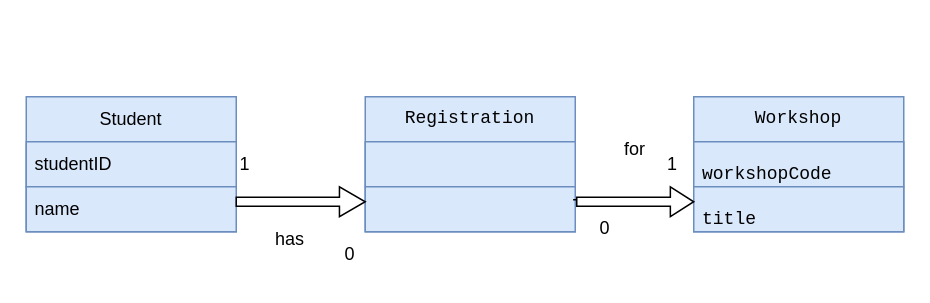
Some shapes in this 930 by 303 pixel diagram are drawn without their labels. Here are the shapes that lost their labels. From the top down, the centre of each, then its label:
At [469,163]: "registrationDate".
At [469,208]: "status".
